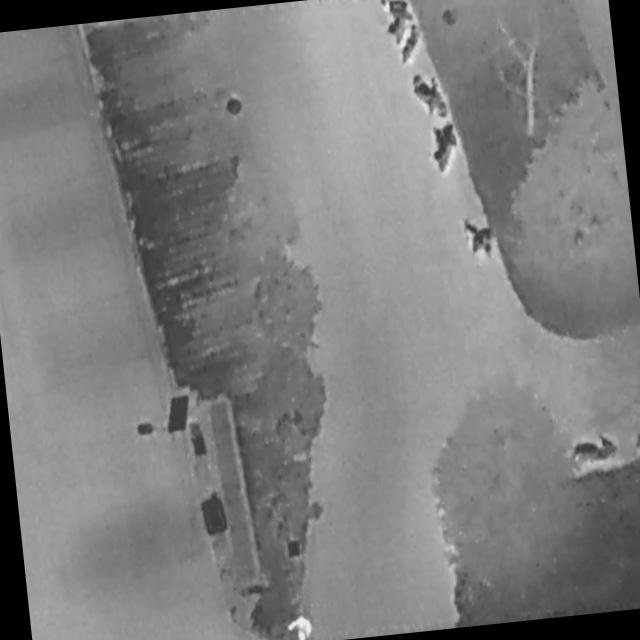person: (284, 615, 313, 640)
